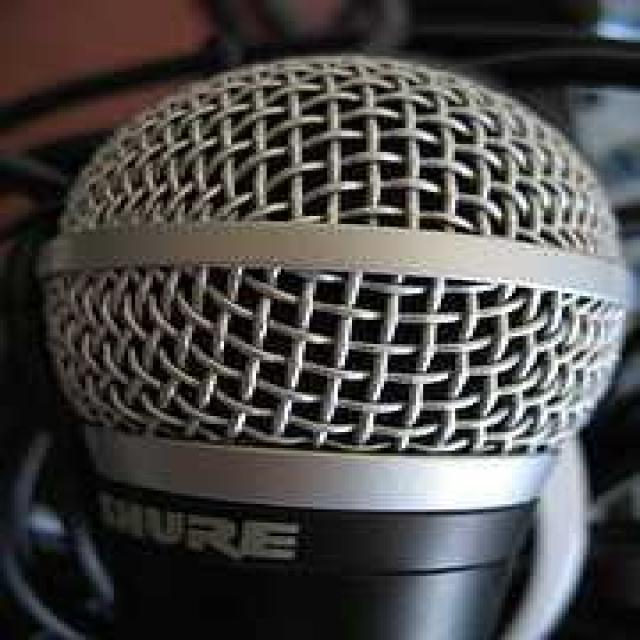microphone: (34, 71, 615, 633)
